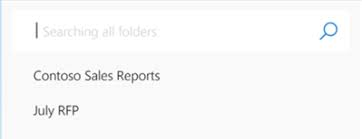searchIcon: (318, 21, 339, 44)
